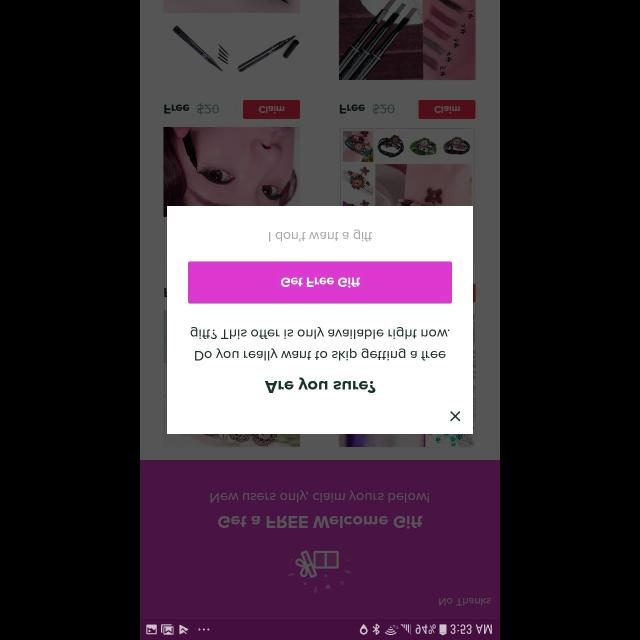icon: (450, 411, 460, 422)
panel: (167, 206, 473, 434)
text: (190, 327, 450, 361), (264, 377, 376, 393), (270, 230, 372, 242)
textbutton: (188, 261, 452, 303)
uppertaskbar: (140, 618, 500, 640)
